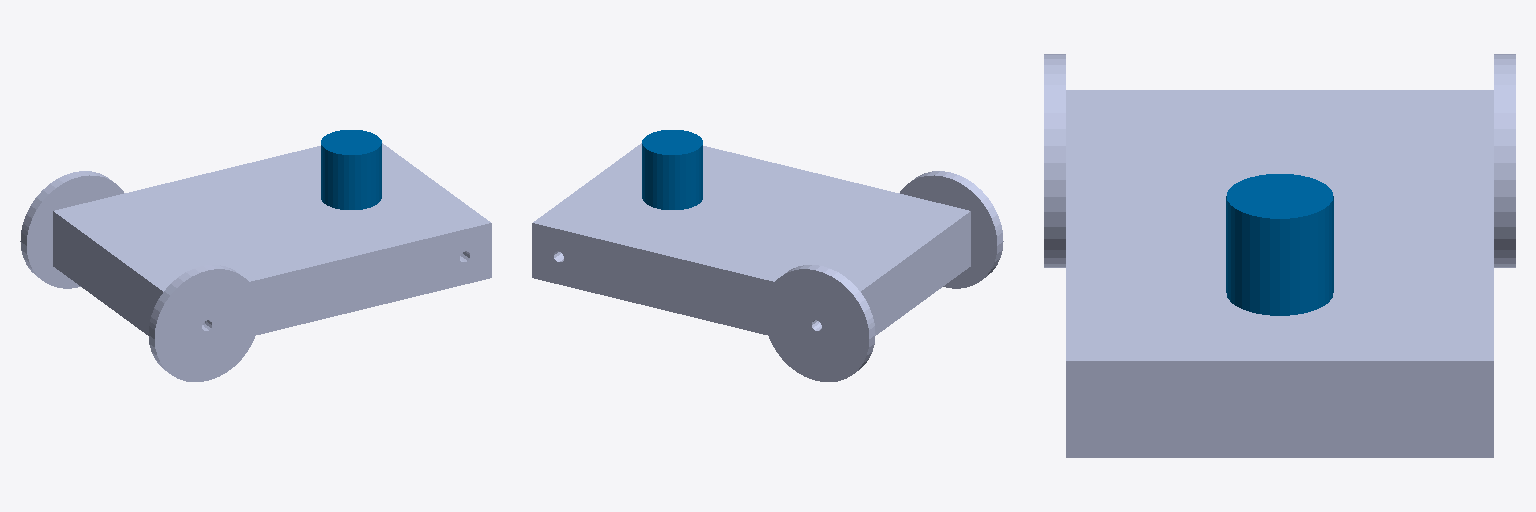
robot.urdf — my_robot:
<?xml version="1.0" encoding="utf-8"?>
<!-- This URDF was automatically created by SolidWorks to URDF Exporter! Originally created by [author] ([email redacted]) 
     Commit Version: 1.6.0-1-g15f4949  Build Version: 1.6.7594.29634
     For more information, please see http://wiki.ros.org/sw_urdf_exporter -->
<robot
  name="my_robot">

  <gazebo reference="base_link">
    <material>Gazebo/Orange</material>
  </gazebo>
  <gazebo reference="Left_Link">
    <material>Gazebo/SkyBlue</material>
  </gazebo>
  <gazebo reference="Right_Link">
    <material>Gazebo/SkyBlue</material>
  </gazebo>
  <gazebo reference="Sensor_Laser">
    <material>Gazebo/SkyBlue</material>
  </gazebo>

  <link
    name="base_link">
    <inertial>
      <origin
        xyz="-0.001672 -1.1716E-17 0.050348"
        rpy="0 0 0" />
      <mass
        value="5" />
      <inertia
        ixx="0.33621"
        ixy="1.0274E-16"
        ixz="-0.0012409"
        iyy="0.7179"
        iyz="1.369E-17"
        izz="1.0147" />
    </inertial>
    <visual>
      <origin
        xyz="0 0 0"
        rpy="0 0 0" />
      <geometry>
        <mesh
          filename="package://auto_test/meshes/base_link.STL" />
      </geometry>
      <material
        name="">
        <color
          rgba="0.79216 0.81961 0.93333 1" />
      </material>
    </visual>
    <collision>
      <origin
        xyz="0 0 0"
        rpy="0 0 0" />
      <geometry>
        <mesh
          filename="package://auto_test/meshes/base_link.STL" />
      </geometry>
    </collision>
  </link>
  <link
    name="Left_Link">
    <inertial>
      <origin
        xyz="-0.01 0 -5.5511E-17"
        rpy="0 0 0" />
      <mass
        value="0.62204" />
      <inertia
        ixx="0.0031413"
        ixy="4.4128E-20"
        ixz="1.7802E-20"
        iyy="0.0015914"
        iyz="1.3553E-19"
        izz="0.0015914" />
    </inertial>
    <visual>
      <origin
        xyz="0 0 0"
        rpy="0 0 0" />
      <geometry>
        <mesh
          filename="package://auto_test/meshes/L_Link.STL" />
      </geometry>
      <material
        name="">
        <color
          rgba="0.79216 0.81961 0.93333 1" />
      </material>
    </visual>
    <collision>
      <origin
        xyz="0 0 0"
        rpy="0 0 0" />
      <geometry>
        <mesh
          filename="package://auto_test/meshes/L_Link.STL" />
      </geometry>
    </collision>
  </link>
  <joint
    name="Left_Joint"
    type="continuous">
    <origin
      xyz="-0.25 -0.2 0.05"
      rpy="1.7983 0 1.5708" />
    <parent
      link="base_link" />
    <child
      link="Left_Link" />
    <axis
      xyz="1 0 0" />
  </joint>
  <link
    name="Right_Link">
    <inertial>
      <origin
        xyz="0.01 0 -5.5511E-17"
        rpy="0 0 0" />
      <mass
        value="0.62204" />
      <inertia
        ixx="0.0031413"
        ixy="3.9891E-20"
        ixz="9.4367E-21"
        iyy="0.0015914"
        iyz="1.3553E-19"
        izz="0.0015914" />
    </inertial>
    <visual>
      <origin
        xyz="0 0 0"
        rpy="0 0 0" />
      <geometry>
        <mesh
          filename="package://auto_test/meshes/R_Link.STL" />
      </geometry>
      <material
        name="">
        <color
          rgba="0.79216 0.81961 0.93333 1" />
      </material>
    </visual>
    <collision>
      <origin
        xyz="0 0 0"
        rpy="0 0 0" />
      <geometry>
        <mesh
          filename="package://auto_test/meshes/R_Link.STL" />
      </geometry>
    </collision>
  </link>
  <joint
    name="Right_Joint"
    type="continuous">
    <origin
      xyz="-0.25 0.2 0.05"
      rpy="1.7983 0 1.5708" />
    <parent
      link="base_link" />
    <child
      link="Right_Link" />
    <axis
      xyz="1 0 0" />
  </joint>
  <link
    name="Castor_Link">
    <inertial>
      <origin
        xyz="7.043E-16 -7.3552E-16 5.2736E-16"
        rpy="0 0 0" />
      <mass
        value="0.5236" />
      <inertia
        ixx="0.0005236"
        ixy="-1.3553E-20"
        ixz="0"
        iyy="0.0005236"
        iyz="2.7105E-20"
        izz="0.0005236" />
    </inertial>
    <visual>
      <origin
        xyz="0 0 0"
        rpy="0 0 0" />
      <geometry>
        <mesh
          filename="package://auto_test/meshes/Castor_Link.STL" />
      </geometry>
      <material
        name="">
        <color
          rgba="0.79216 0.81961 0.93333 1" />
      </material>
    </visual>
    <collision>
      <origin
        xyz="0 0 0"
        rpy="0 0 0" />
      <geometry>
        <mesh
          filename="package://auto_test/meshes/Castor_Link.STL" />
      </geometry>
    </collision>
  </link>
  <joint
    name="Castor_Joint"
    type="continuous">
    <origin
      xyz="0.15 0 0"
      rpy="2.4146 -0.79692 -1.7817" />
    <parent
      link="base_link" />
    <child
      link="Castor_Link" />
    <axis
      xyz="0.68342 -0.62124 0.3834" />
    <dynamics
      damping="0"
      friction="0" />
  </joint>


  <link name="Sensor_Laser">
    <inertial>
      <origin xyz="0 0 0" rpy="0 0 0" />
      <mass value="1" />
      <inertia ixx="0.00145833333333" ixy="0" ixz="0" iyy="0.00145833333333" iyz="0" izz="0.00125"/>
    </inertial>

    <visual>
      <origin xyz="0 0 0" rpy="0 0 0" />
      <geometry>
        <cylinder radius="0.05" length="0.1"/>
      </geometry>
      <material name="white" />
    </visual>

    <collision>
      <origin xyz="0 0 0" rpy="0 0 0"/>
      <geometry>
        <cylinder radius="0.05" length="0.1"/>
      </geometry>
    </collision>
  </link>

  <joint name="joint_sensor_laser" type="fixed">
    <origin xyz="0.15 0 0.15" rpy="0 0 0"/>
    <parent link="base_link"/>
    <child link="Sensor_Laser"/>
  </joint>

  <gazebo>
    <plugin filename="libgazebo_ros_diff_drive.so" name="differential_drive_controller">
      <alwaysOn>true</alwaysOn>
      <updateRate>20</updateRate>
      <leftJoint>Left_Joint</leftJoint>
      <rightJoint>Right_Joint</rightJoint>
      <wheelSeparation>0.4</wheelSeparation>
      <wheelDiameter>0.2</wheelDiameter>
      <torque>0.1</torque>
      <commandTopic>cmd_vel</commandTopic>
      <odometryTopic>odom</odometryTopic>
      <odometryFrame>odom</odometryFrame>
      <robotBaseFrame>base_link</robotBaseFrame>
    </plugin>
  </gazebo>

  <gazebo reference="Sensor_Laser">
    <sensor type="ray" name="head_hokuyo_sensor">
      <pose>0 0 0 0 0 0</pose>
      <visualize>false</visualize>
      <update_rate>20</update_rate>
      <ray>
        <scan>
          <horizontal>
            <samples>720</samples>
            <resolution>1</resolution>
            <min_angle>-1.570796</min_angle>
            <max_angle>1.570796</max_angle>
          </horizontal>
        </scan>
        <range>
          <min>0.10</min>
          <max>10.0</max>
          <resolution>0.01</resolution>
        </range>
        <noise>
          <type>gaussian</type>
          <mean>0.0</mean>
          <stddev>0.01</stddev>
        </noise>
      </ray>
      <plugin name="gazebo_ros_head_hokuyo_controller" filename="libgazebo_ros_laser.so">
        <topicName>/robot/laser/scan</topicName>
        <frameName>Sensor_Laser</frameName>
      </plugin>
    </sensor>
  </gazebo>

</robot>

--- What the picture shows (computed from the rendered views, not written in the file) ---
Views: 3 orthographic renders of the robot side by side, from view 1: azimuth 30°, elevation 25°; view 2: azimuth 150°, elevation 25°; view 3: azimuth 270°, elevation 25°.
Model my_robot with 5 links and 4 joints (3 continuous, 1 fixed), rooted at base_link, posed all joints at 0.
Links seen in each view (by area): view 1: base_link, Left_Link, Sensor_Laser, Right_Link; view 2: base_link, Right_Link, Sensor_Laser, Left_Link; view 3: base_link, Sensor_Laser, Left_Link, Right_Link.
Link boxes in pixels (x1=…): base_link: x1=53, y1=143, x2=491, y2=335; Left_Link: x1=148, y1=265, x2=259, y2=381; Sensor_Laser: x1=321, y1=130, x2=381, y2=209; Right_Link: x1=20, y1=171, x2=123, y2=288; base_link: x1=532, y1=143, x2=970, y2=335; Right_Link: x1=764, y1=265, x2=875, y2=381; Sensor_Laser: x1=642, y1=130, x2=702, y2=209; Left_Link: x1=900, y1=171, x2=1003, y2=288; base_link: x1=1066, y1=90, x2=1493, y2=457; Sensor_Laser: x1=1226, y1=174, x2=1333, y2=315; Left_Link: x1=1044, y1=54, x2=1065, y2=267; Right_Link: x1=1494, y1=54, x2=1515, y2=267.
Bounding box of the posed robot: 0.65 × 0.44 × 0.2499 m (x, y, z).
4 mesh visuals loaded from 4 distinct referenced files (4 binary STL).
